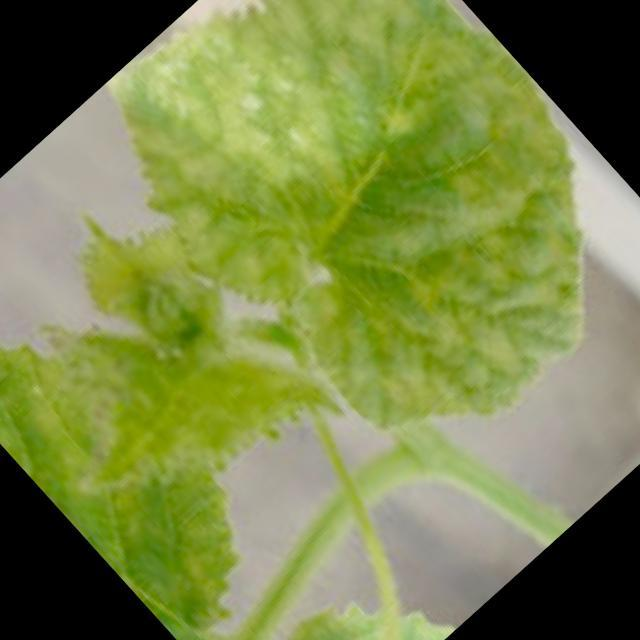Tomato mosaic virus leaf: (85, 0, 640, 480)
